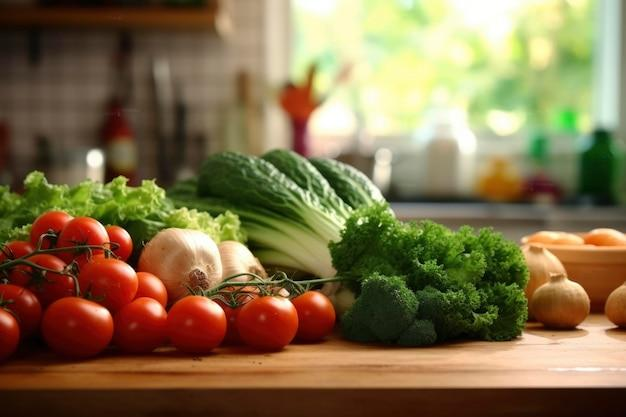brocolli: (355, 199, 548, 350)
tomato: (5, 220, 353, 357)
